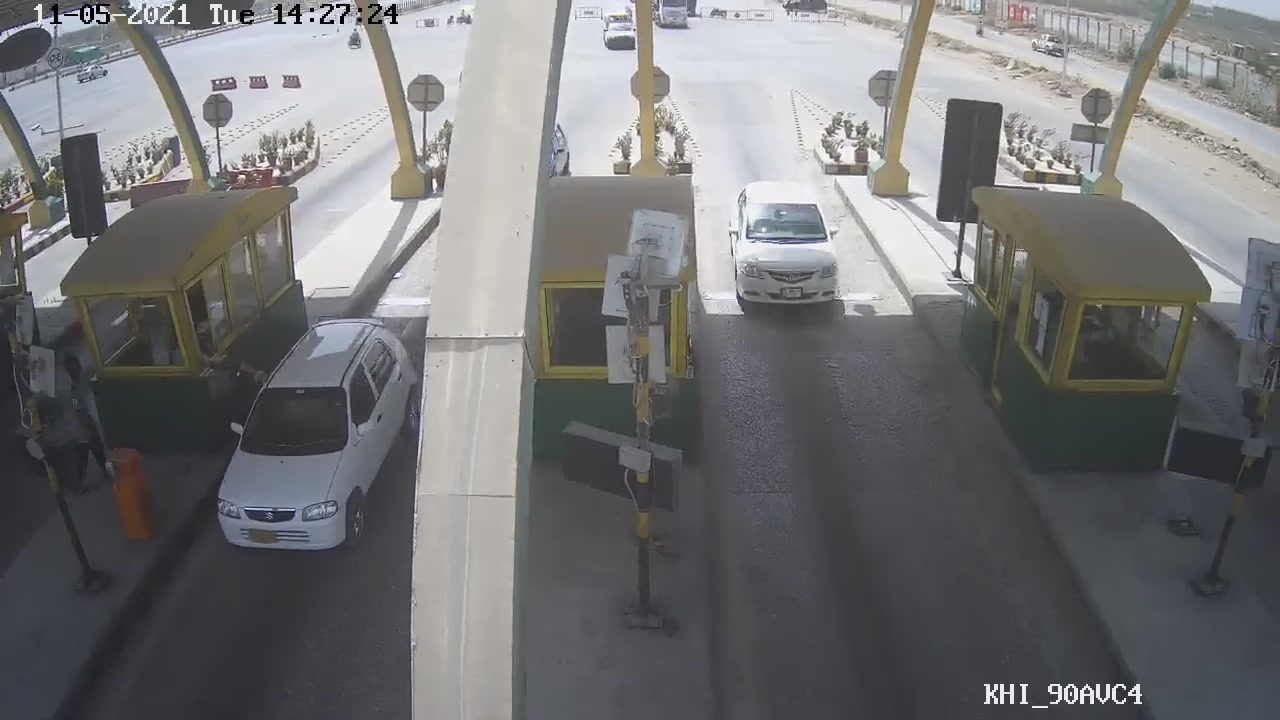F1: (718, 182, 850, 311)
